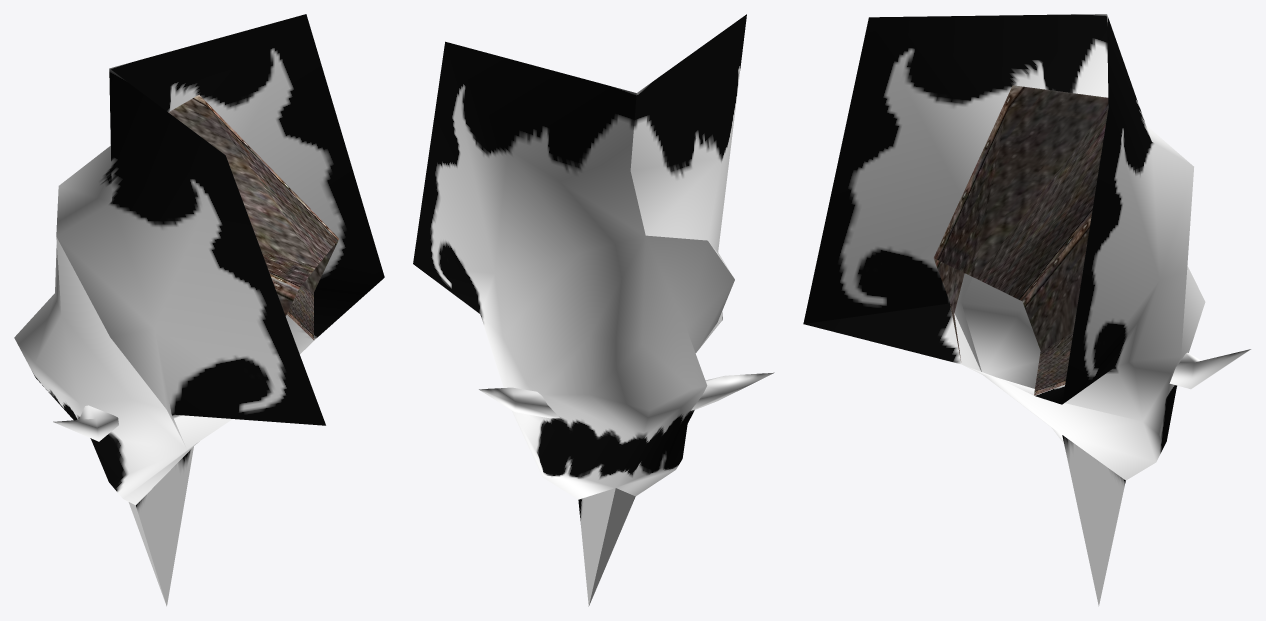
File: klion16.obj
3 renders of one model, left to right at view 1: azimuth 30°, elevation 25°; view 2: azimuth 150°, elevation 25°; view 3: azimuth 270°, elevation 25°, orthographic. The views are drawn at different scales.
Parts seen in each view (by area): view 1: klion16; view 2: klion16; view 3: klion16.
Part boxes in pixels (left/top/right/bottom): klion16: left=14, top=14, right=384, bottom=606; klion16: left=413, top=14, right=774, bottom=606; klion16: left=803, top=14, right=1250, bottom=606.
Bounding box in the file's own units: 149 × 223 × 159.
